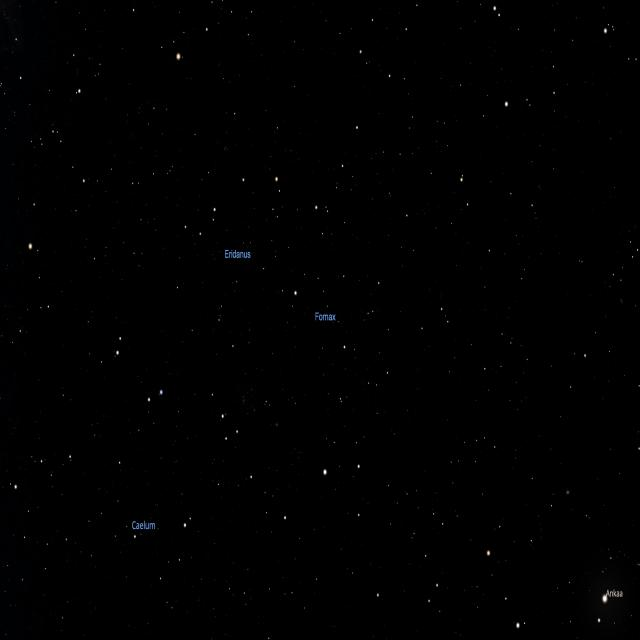Fornax: (291, 283, 355, 359)
